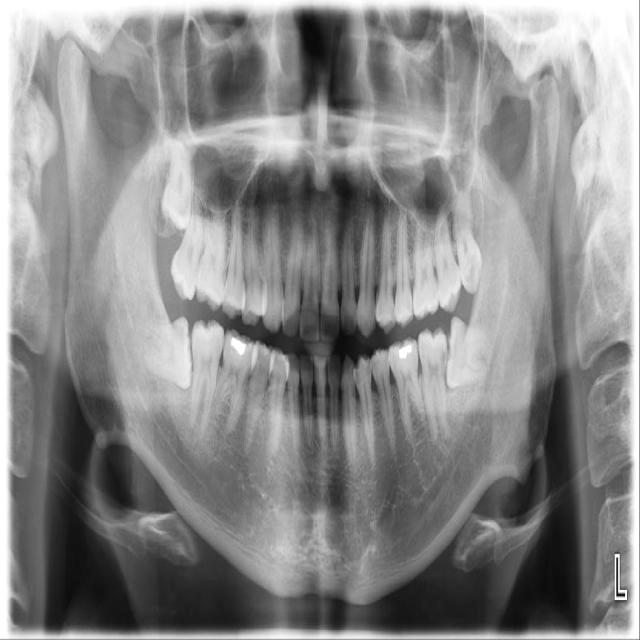Filling: (228, 333, 249, 355), (392, 342, 416, 360)
impacted tooth: (152, 137, 196, 232), (132, 320, 191, 386), (444, 318, 493, 390)
